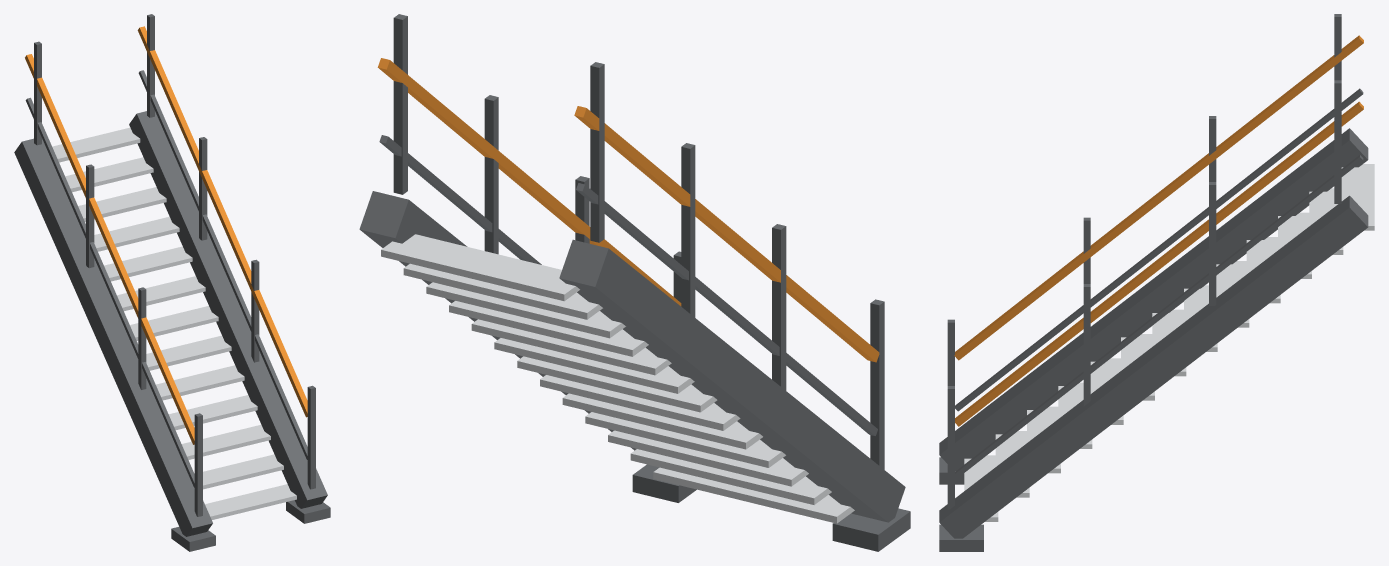
The model's file is self-storage-facility-and-loading-bay-self-storage-fac-39d8e1be__34705.glb.
The picture shows the model from 3 angles, left to right: view 1: azimuth 30°, elevation 25°; view 2: azimuth 150°, elevation 25°; view 3: azimuth 270°, elevation 25°; orthographic projection. The views are drawn at different scales.
Visible parts, largest first — view 1: self-storage-facility-and-loading-bay-mezzanine-stair-flight (×3); view 2: self-storage-facility-and-loading-bay-mezzanine-stair-flight (×3); view 3: self-storage-facility-and-loading-bay-mezzanine-stair-flight (×3).
Boxes of the visible parts, <box> form: self-storage-facility-and-loading-bay-mezzanine-stair-flight (×3): <box>14,14,330,551</box>; self-storage-facility-and-loading-bay-mezzanine-stair-flight (×3): <box>359,14,910,551</box>; self-storage-facility-and-loading-bay-mezzanine-stair-flight (×3): <box>939,14,1374,551</box>.
Size of the model in its own units: 1.5 by 3.9 by 3.33.
